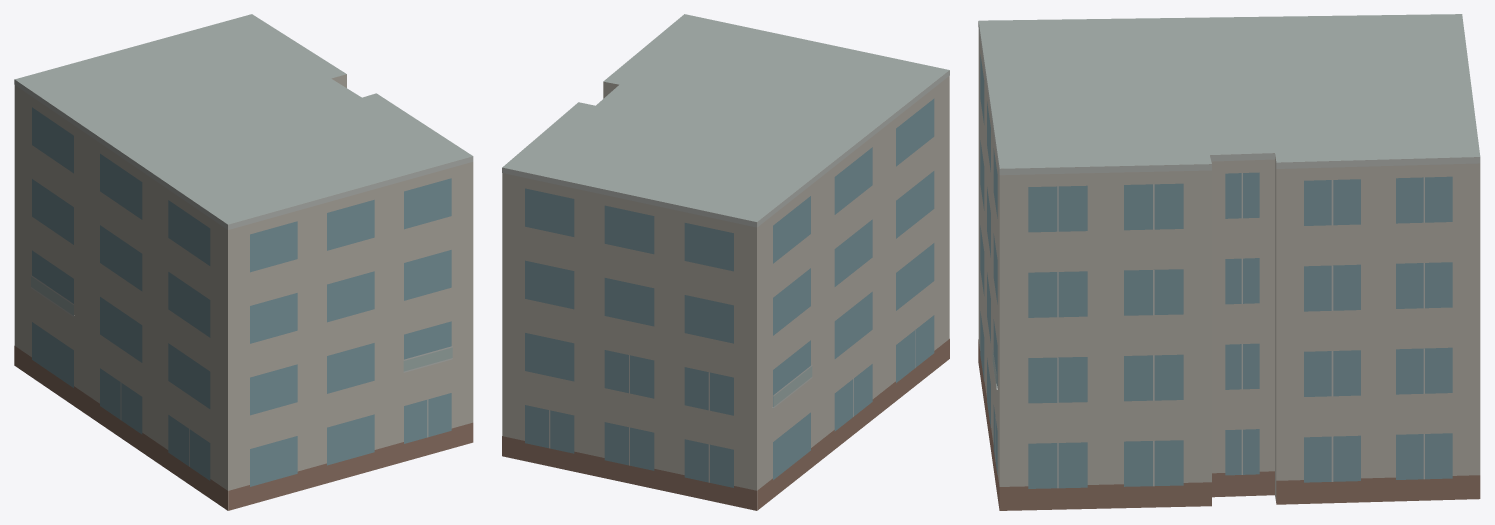
File: survey-upis-32723394.glb
The picture shows the model from 3 angles, left to right: view 1: azimuth 30°, elevation 25°; view 2: azimuth 150°, elevation 25°; view 3: azimuth 270°, elevation 25°; orthographic projection. The views are drawn at different scales.
Visible parts, largest first — view 1: survey-upis-32723394.tmp; view 2: survey-upis-32723394.tmp; view 3: survey-upis-32723394.tmp.
Part boxes in pixels (x1,y1,x2,y2): survey-upis-32723394.tmp: [14, 14, 473, 510]; survey-upis-32723394.tmp: [502, 14, 949, 510]; survey-upis-32723394.tmp: [978, 14, 1480, 510].
Size of the model in its own units: 12.53 by 12.9 by 17.16.
